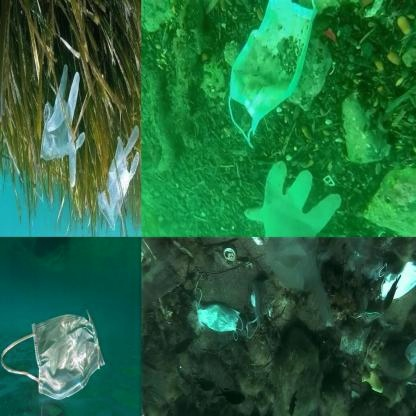Mask: (224, 1, 314, 150), (0, 309, 107, 403), (191, 286, 244, 340)
glove: (244, 158, 343, 236), (40, 60, 86, 190), (97, 123, 139, 231)
